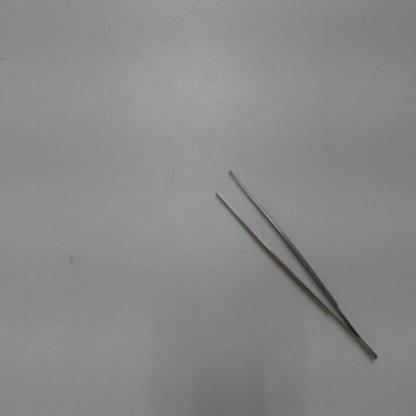Gillies Toothed Dissector: (207, 155, 383, 369)
